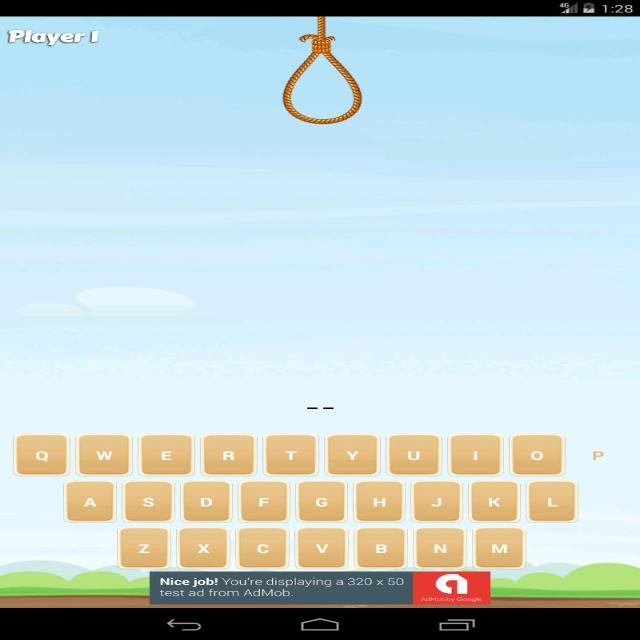button: (235, 527, 291, 569), (178, 526, 230, 568), (473, 528, 525, 570), (353, 528, 406, 568), (203, 433, 253, 475), (123, 480, 173, 522), (238, 480, 288, 522), (120, 526, 169, 568), (298, 527, 347, 569), (78, 434, 128, 475), (140, 434, 191, 474), (513, 435, 564, 475), (414, 481, 462, 523), (389, 434, 438, 475), (450, 435, 500, 475), (16, 435, 67, 474), (267, 432, 314, 474), (417, 528, 464, 570), (574, 433, 622, 474), (182, 480, 230, 521), (355, 481, 403, 522), (298, 482, 347, 522), (528, 483, 578, 522), (327, 435, 376, 474), (66, 481, 112, 521), (472, 482, 518, 522)
heading: (2, 23, 106, 51)
iframe: (150, 573, 492, 604)
image: (0, 15, 640, 606)
